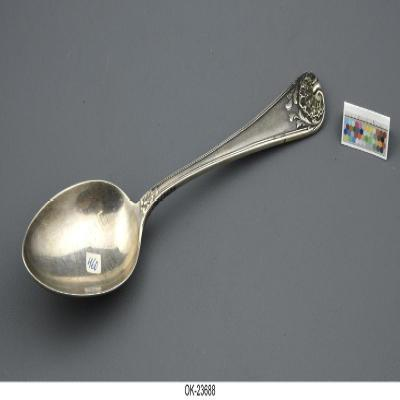dpi: (21, 72, 326, 299)
